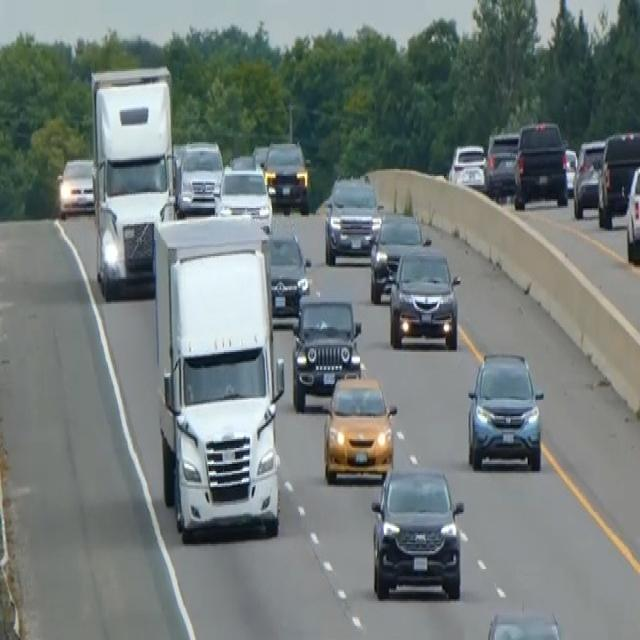car: (369, 462, 464, 601), (465, 349, 544, 471), (290, 292, 363, 411), (321, 372, 397, 484), (387, 242, 461, 350), (368, 210, 428, 302), (323, 174, 382, 265), (513, 117, 568, 210), (597, 128, 639, 228), (217, 160, 272, 233), (267, 228, 311, 316), (176, 137, 223, 215), (263, 137, 309, 211), (572, 137, 605, 219), (484, 128, 519, 197), (484, 608, 563, 638), (57, 155, 95, 217), (448, 140, 487, 190), (624, 162, 639, 263), (562, 146, 577, 194), (251, 142, 268, 171)
lorry: (150, 212, 286, 540)
